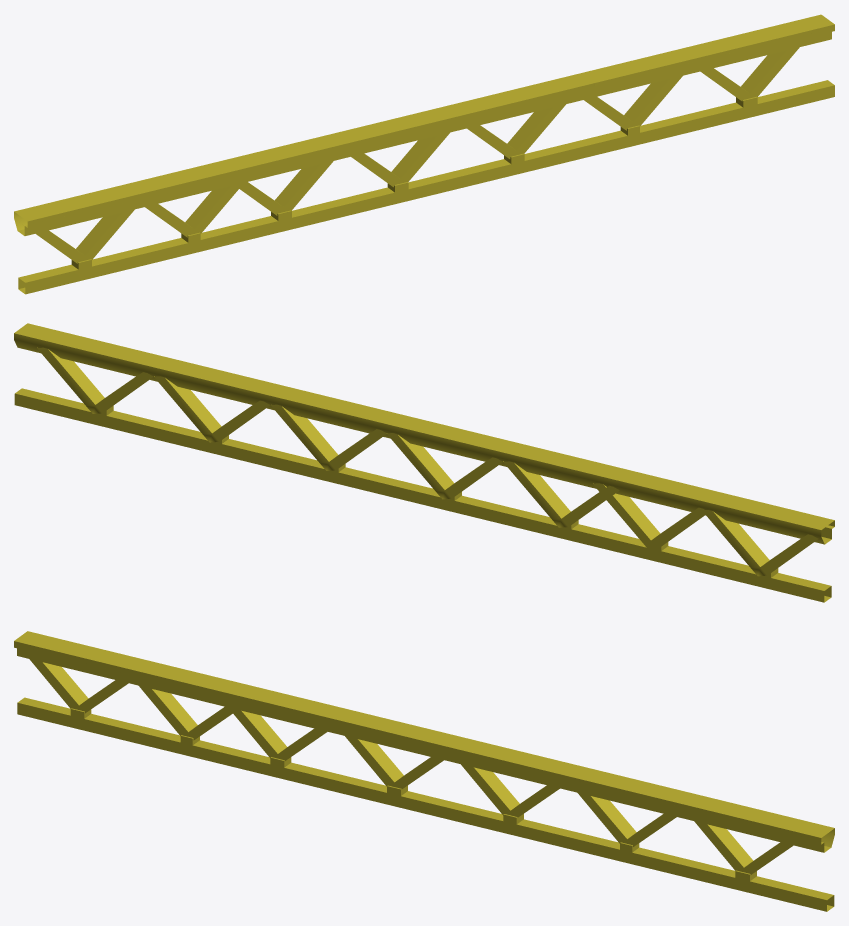
File: metal_support_1.fbx
The picture shows the model from 3 angles, top to bottom: view 1: azimuth 30°, elevation 25°; view 2: azimuth 150°, elevation 25°; view 3: azimuth 330°, elevation 25°; orthographic projection.
Parts seen in each view (by area): view 1: górny metal.001; view 2: górny metal.001; view 3: górny metal.001.
Part boxes in pixels (x1=…): górny metal.001: x1=14, y1=14, x2=834, y2=294; górny metal.001: x1=14, y1=323, x2=834, y2=602; górny metal.001: x1=14, y1=631, x2=834, y2=911.
Bounding box in the file's own units: 3.56 × 0.3159 × 0.1037.
